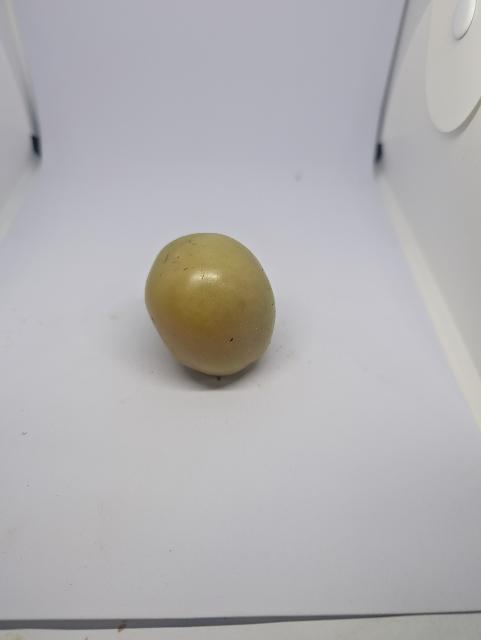breaker: (140, 227, 288, 385)
